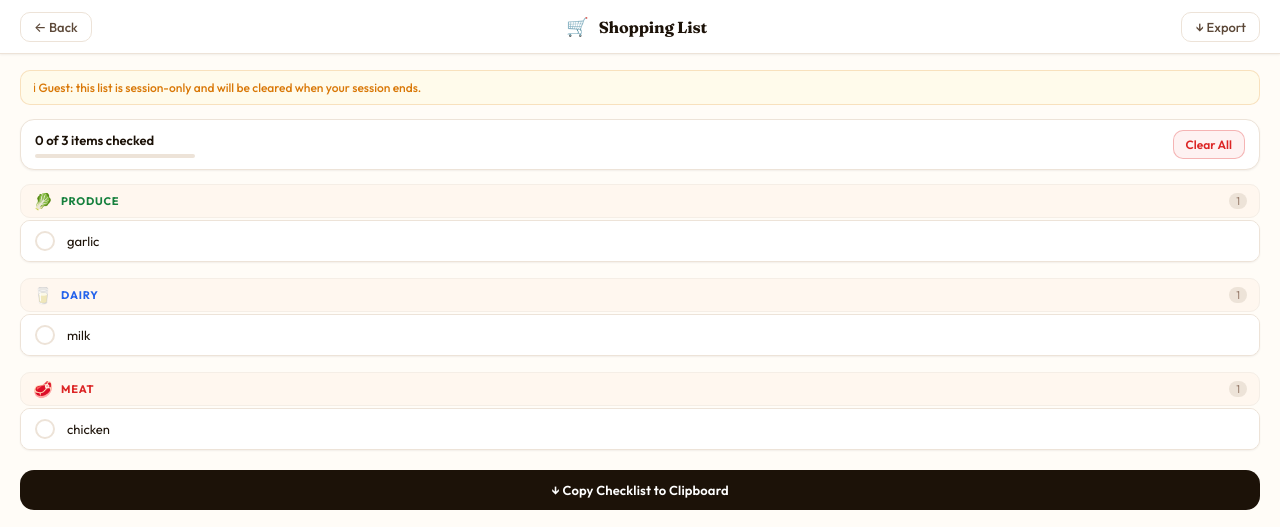
Test case: ShoppingListPage — extended › updates checked count when a checkbox is clicked
Expected: the text "0 of 3 items checked" is shown, [35,132,154,148]
Click the text "chicken". click: {"x": 88, "y": 429}
box: [67,421,110,437]
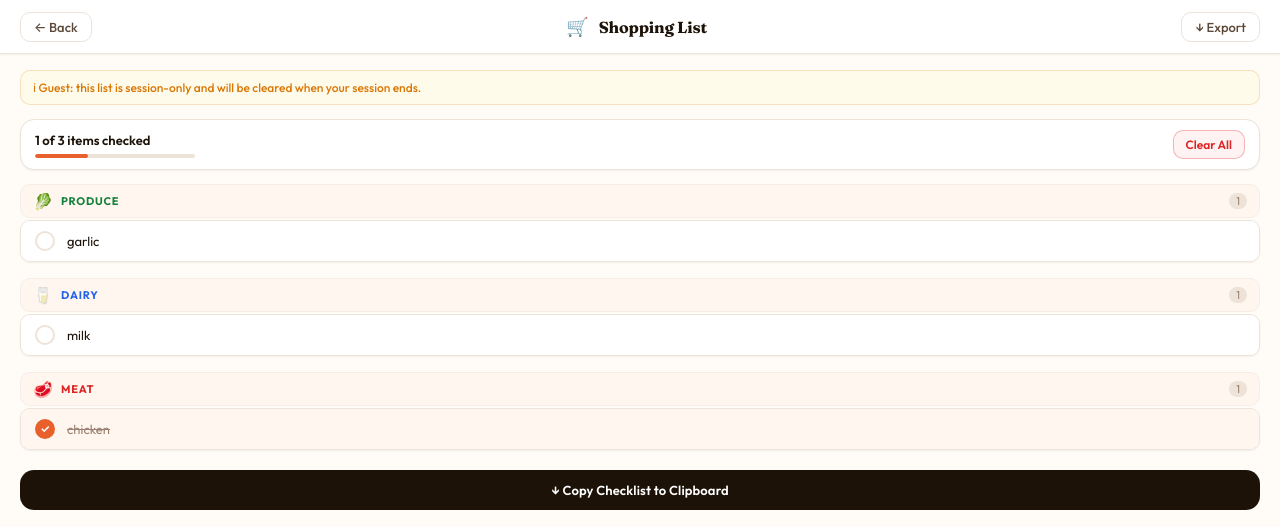
Expected: the text "1 of 3 items checked" is shown, [35,132,150,148]
